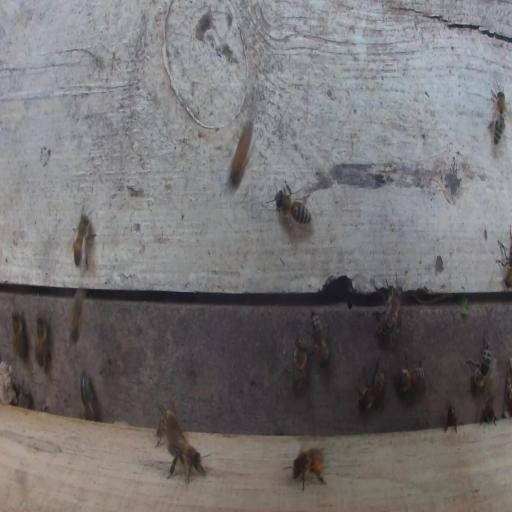bee: (167, 438, 206, 485), (291, 446, 328, 494), (375, 278, 403, 341), (230, 122, 256, 189), (272, 188, 313, 228), (464, 334, 492, 392), (356, 360, 386, 413), (306, 309, 330, 370), (154, 399, 183, 449), (396, 349, 426, 394), (285, 339, 309, 394), (70, 210, 91, 271), (494, 223, 512, 290), (489, 88, 507, 148), (10, 309, 28, 360), (69, 287, 84, 345), (80, 370, 96, 422), (34, 313, 49, 368), (480, 394, 499, 427), (443, 404, 458, 435), (18, 379, 32, 409)
